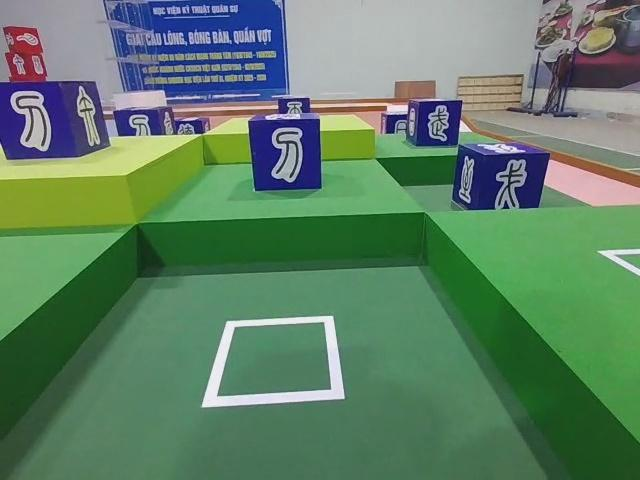R2 Fake Blue: (2, 80, 112, 163), (452, 142, 551, 212), (248, 115, 324, 195), (407, 99, 461, 147), (112, 105, 174, 137), (176, 115, 213, 135), (276, 97, 310, 118)
